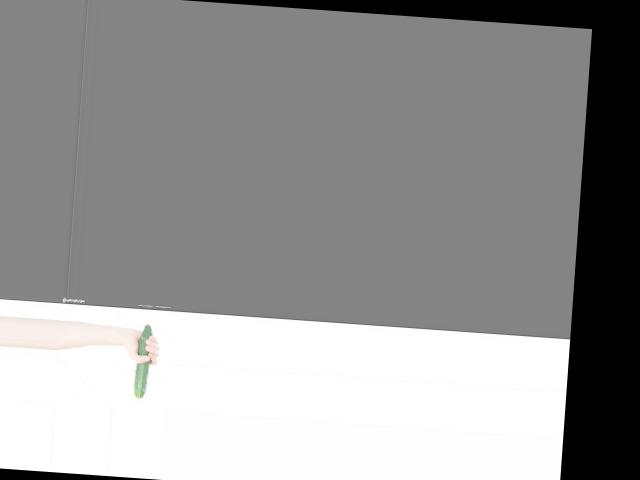cucumber: (133, 322, 153, 398)
